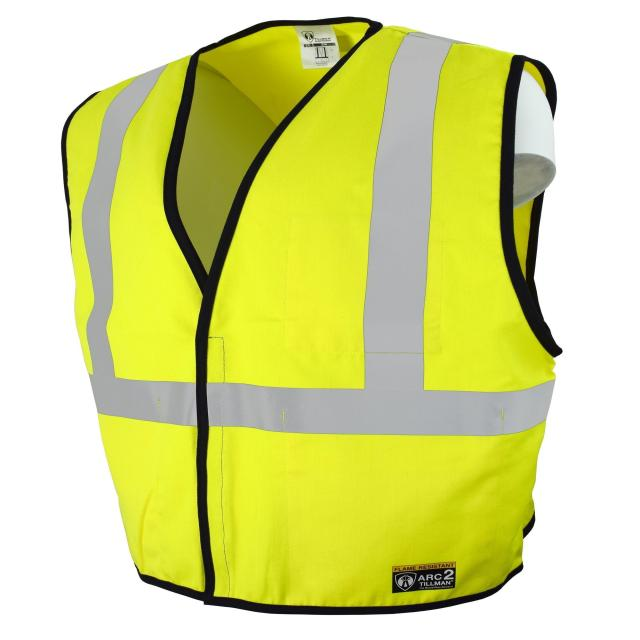Vest: (60, 18, 565, 616)
